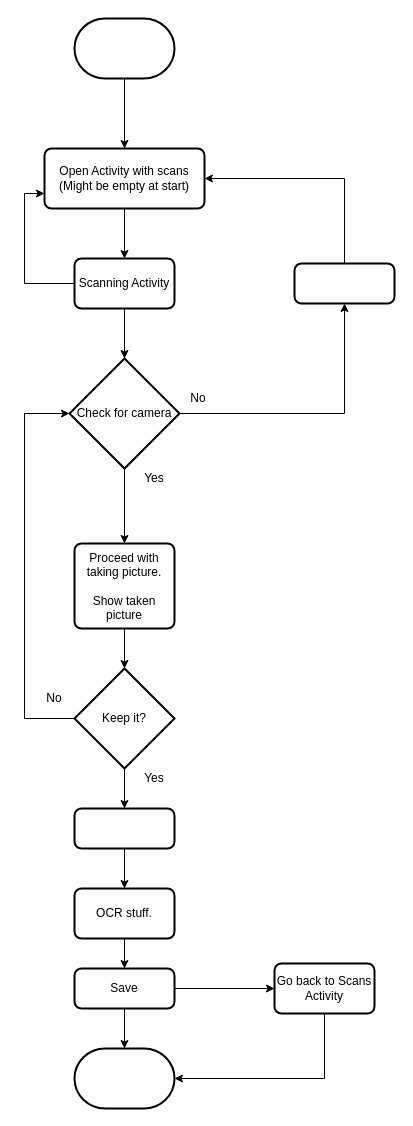
The diagram is 413 pixels wide and 1126 high, and some of its shapes have lost their labels. Each missing label, with the centre of its shape:
App entry point: the point at 124,48
Display error: the point at 344,283
End app: the point at 124,1078
Image processing: the point at 124,828
